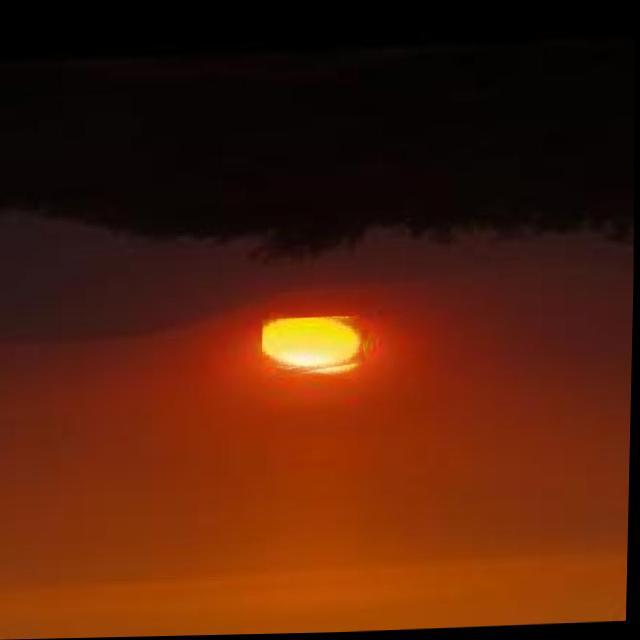sun: (263, 318, 365, 369)
